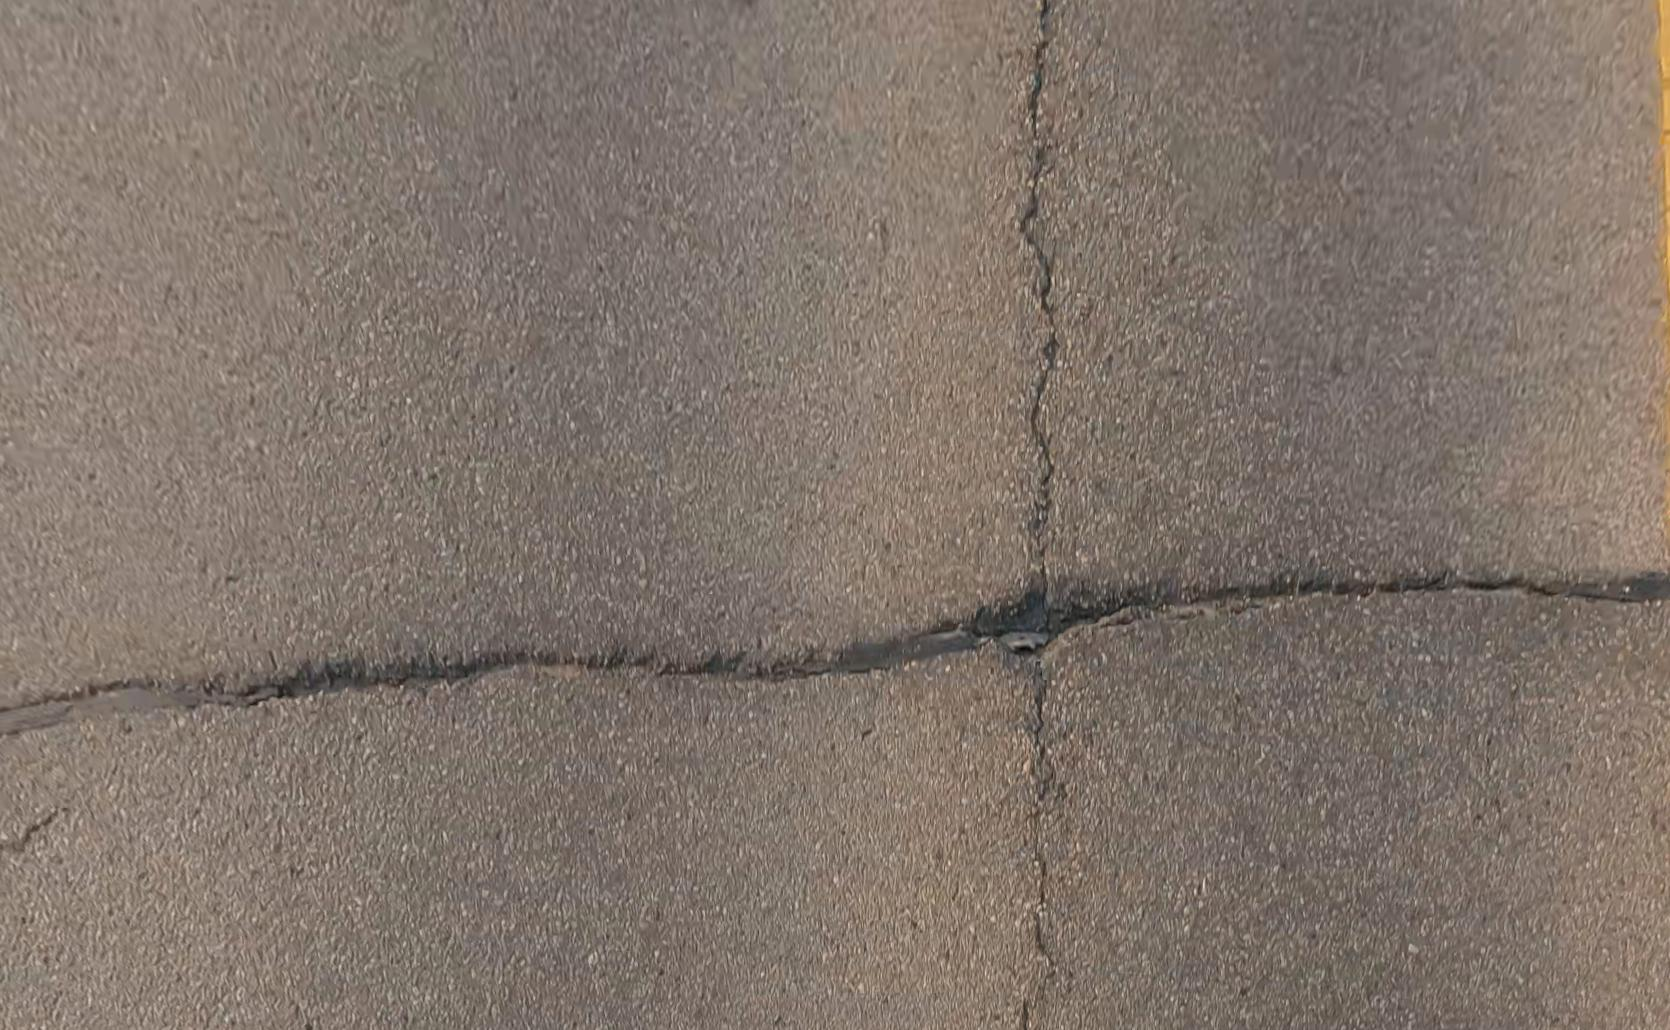pothole: (959, 586, 1089, 661)
